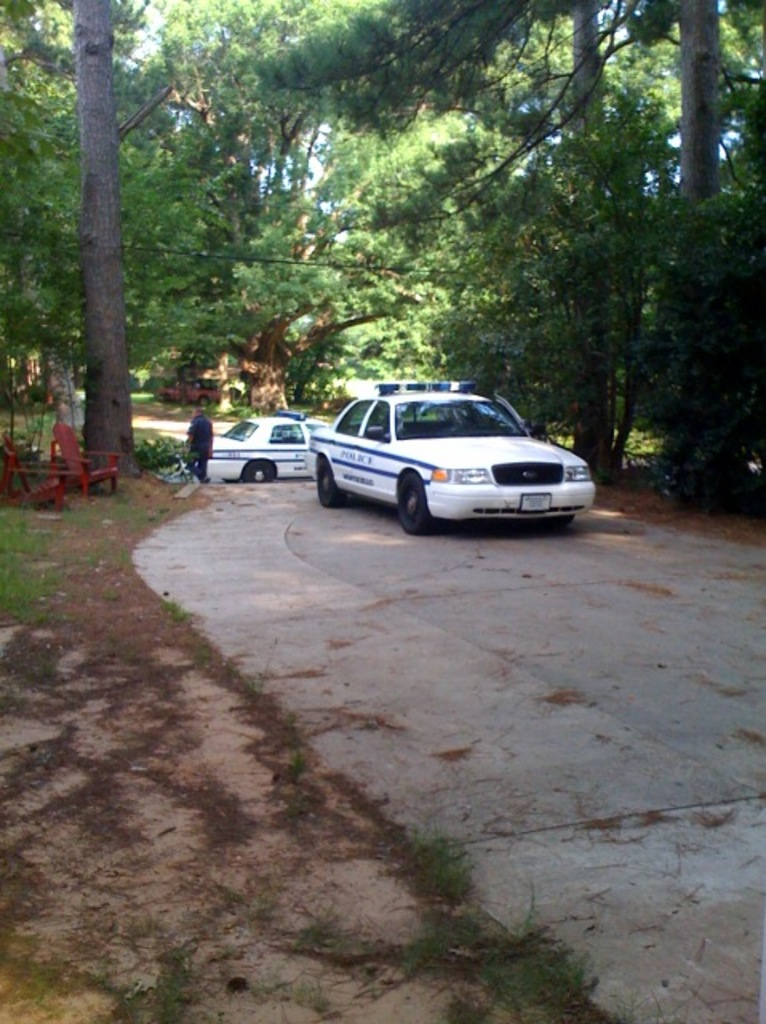Car: (303, 374, 599, 529), (206, 412, 331, 484)
